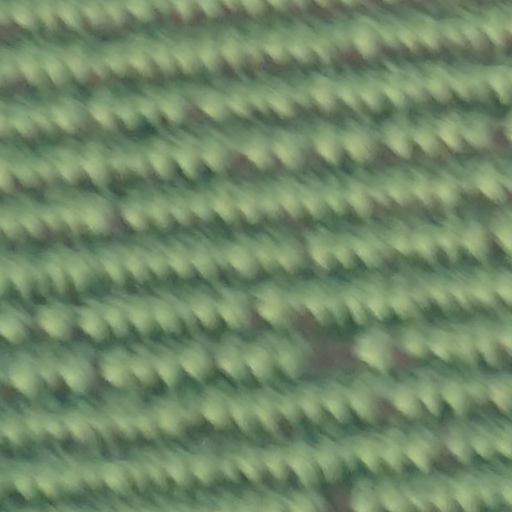eucalipto: (353, 318, 397, 373)
